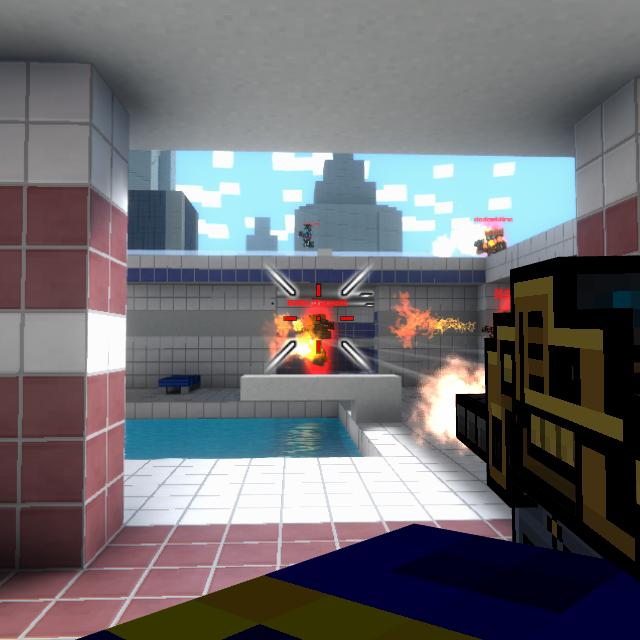Enemy: (307, 313, 333, 368), (478, 225, 507, 252)
